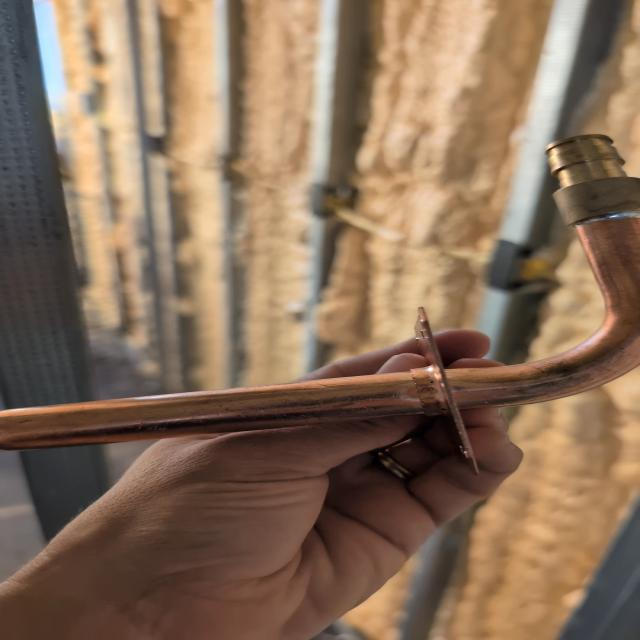wall_flange: (1, 112, 637, 495)
